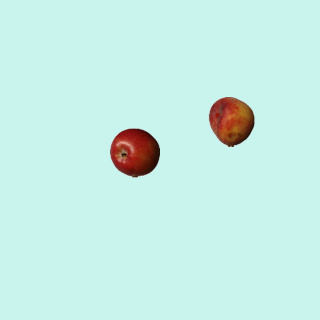Apple Braeburn: (109, 127, 159, 177)
Peach: (206, 96, 256, 146)
